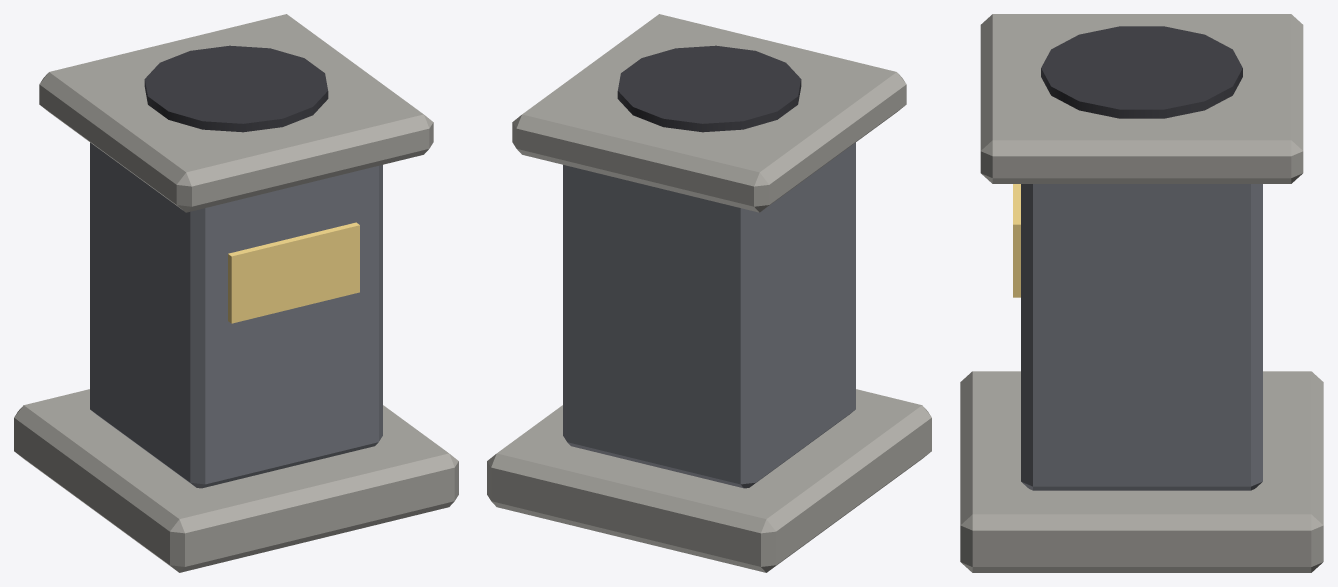
The model's file is cr_plinth.glb.
3 views of the same model, side by side, from view 1: azimuth 30°, elevation 25°; view 2: azimuth 150°, elevation 25°; view 3: azimuth 270°, elevation 25° (orthographic). The views are drawn at different scales.
Parts seen in each view (by area): view 1: cr_plinth; view 2: cr_plinth; view 3: cr_plinth.
Part boxes in pixels (x1,y1,x2,y2): cr_plinth: (14, 14, 458, 572); cr_plinth: (487, 14, 931, 572); cr_plinth: (960, 14, 1323, 572).
Bounding box in the file's own units: 0.9 × 1.18 × 0.9.
